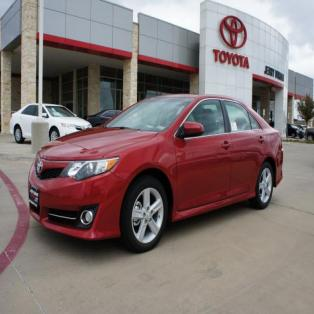Auto: (26, 91, 284, 252)
